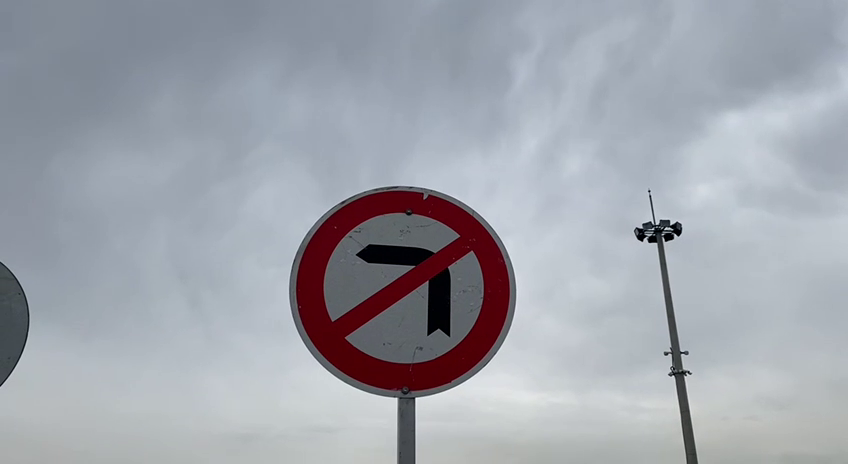noTurnLeft: (281, 180, 522, 403)
